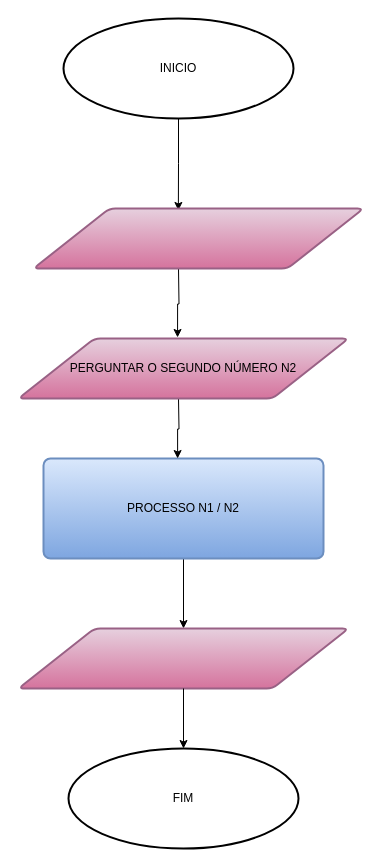
Some shapes in this 381 by 866 pixel diagram are drawn without their labels. The shapes that lost their labels are listed below. From the top down, each one's centre as x and y in pixels, then its label:
(x=198, y=238): PERGUNTAR O PRIMEIRO NÚMERO N1
(x=183, y=658): RESULTADO
